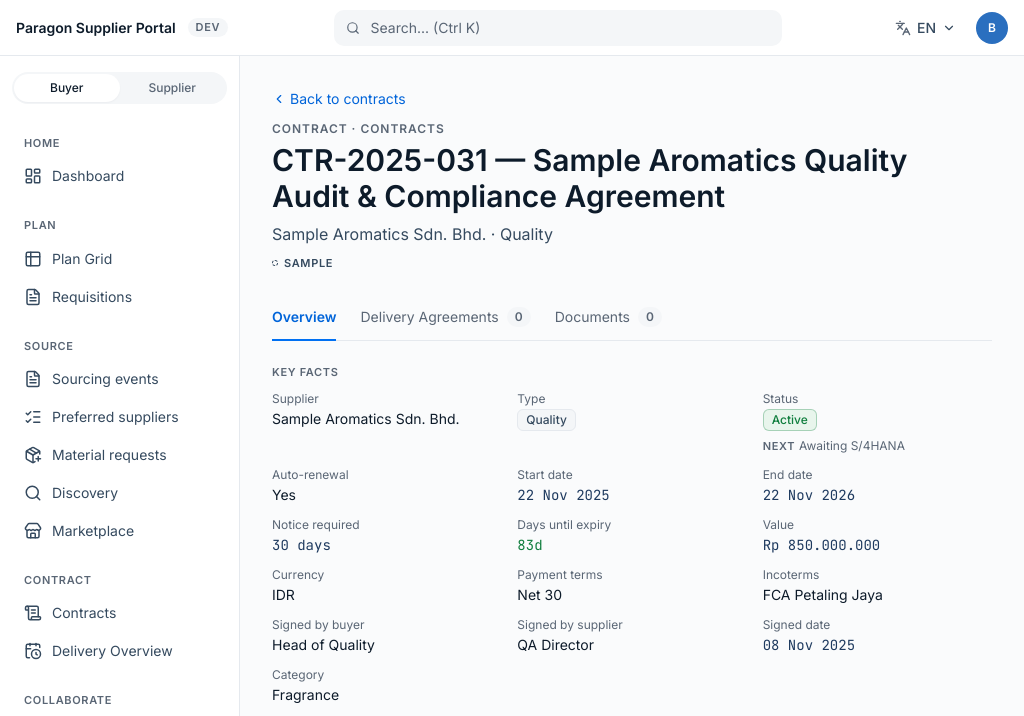
Test: OPS-3 · "Governed — flag over 10%" flags › ⚠️ released beyond tolerance, the card states it with the quantities
The width and height of the screenshot is (1024, 716).
What coordinates should you click on to do the following:
click the tab "Delivery Agreements 0"
I would click on:
 (446, 318)
Its box is [360,295,531,341].
(page scrolled)
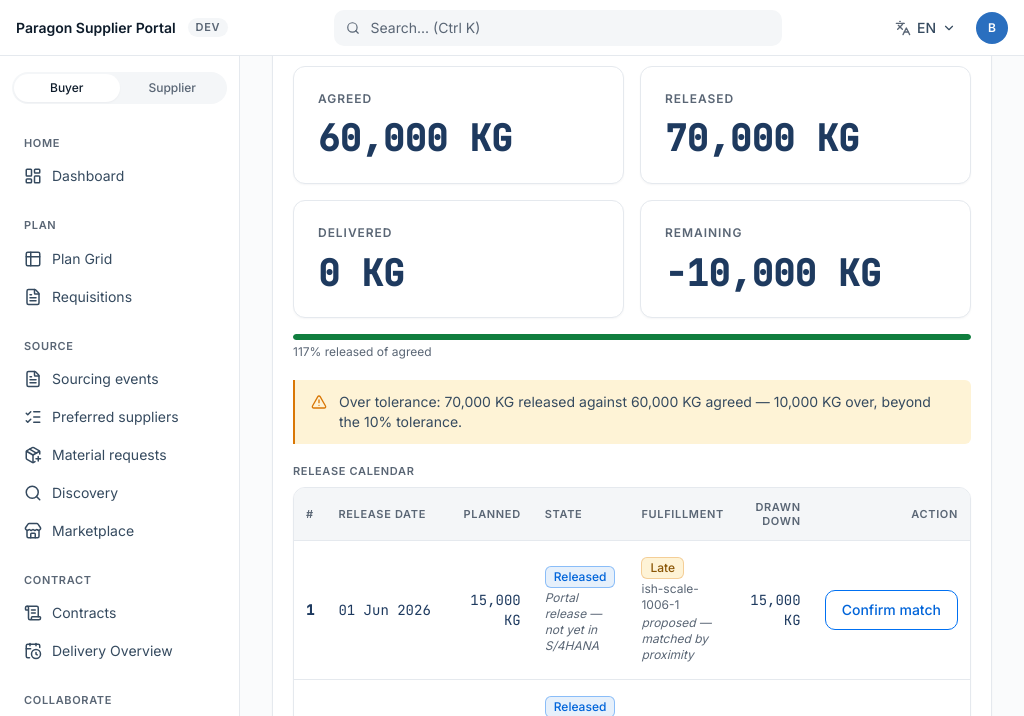
Expected: the message with test id "delivery-over-tolerance" shows "Over tolerance: 70,000 KG released against 60,000 KG agreed — 10,000 KG over, beyond the 10% tolerance.", [339,393,931,430]
